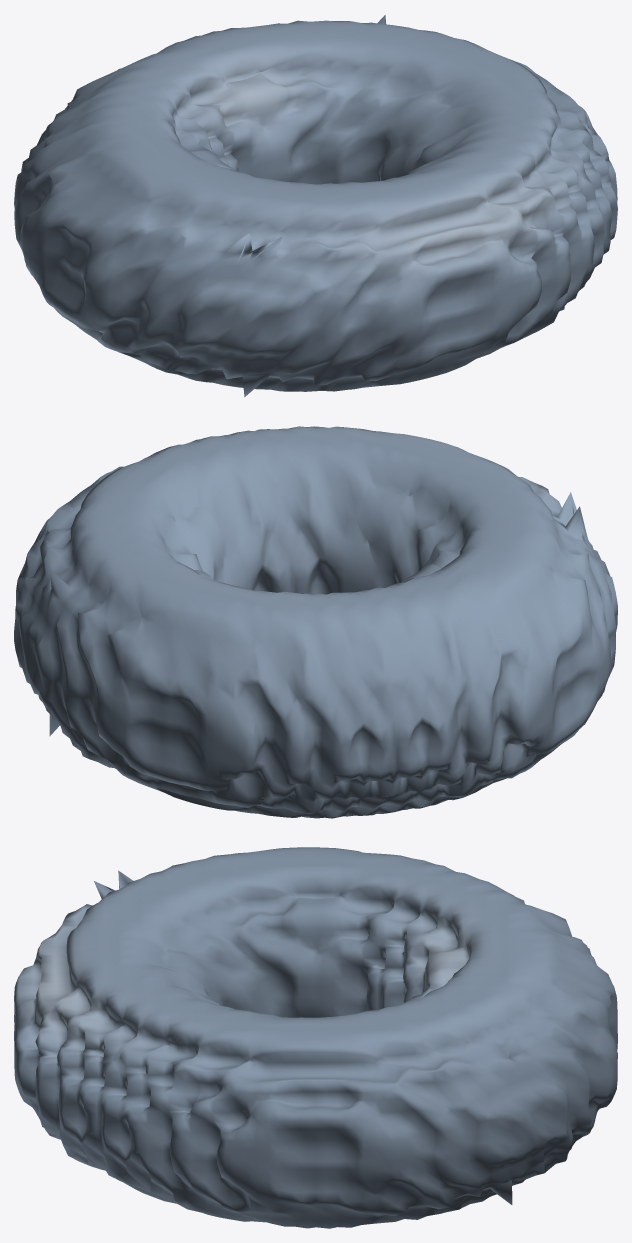
Rendered from default-phone.glb.
3 renders of one model, top to bottom at view 1: azimuth 30°, elevation 25°; view 2: azimuth 150°, elevation 25°; view 3: azimuth 270°, elevation 25°, orthographic. The views are drawn at different scales.
Parts seen in each view (by area): view 1: Torus; view 2: Torus; view 3: Torus.
Part boxes in pixels (x1,y1,x2,y2): Torus: [14, 15, 617, 397]; Torus: [14, 426, 617, 818]; Torus: [14, 847, 617, 1228].
Bounding box in the file's own units: 2.03 × 0.7225 × 2.03.
